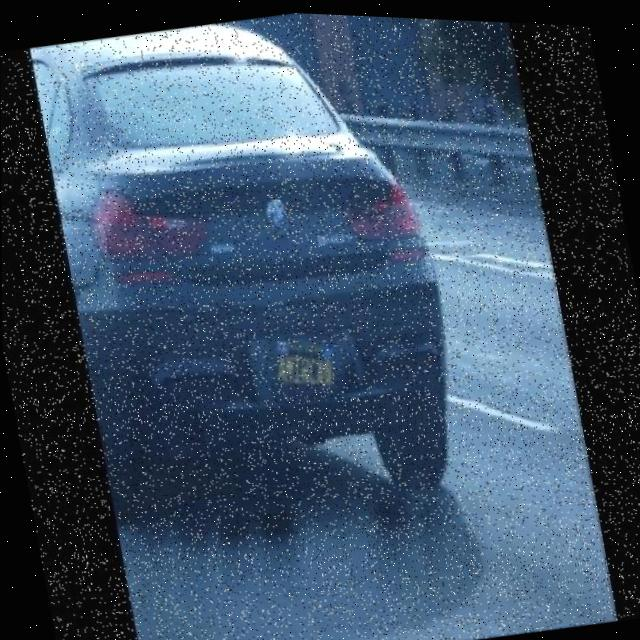LicensePlate: (261, 315, 351, 406)
